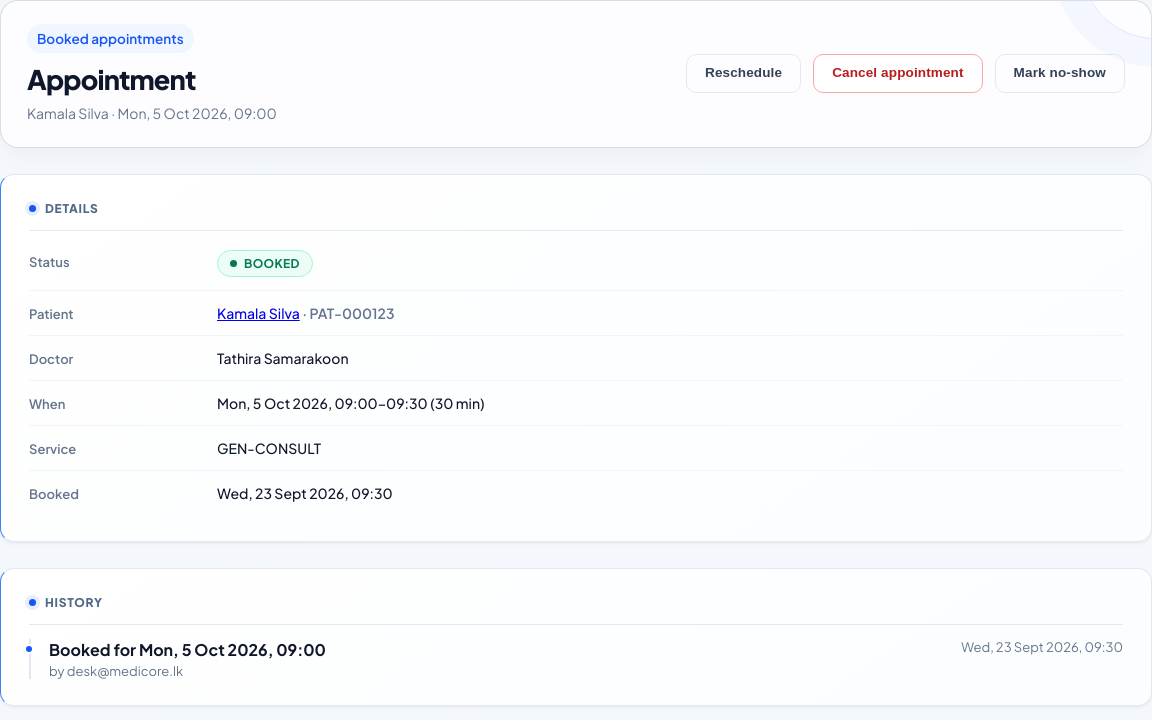
AppointmentDetailPage (SCRUM-36) › keeps the dialog open and reloads the times when the new time was taken meanwhile
The image size is (1152, 720).
Click the button "Reschedule" at {"x": 744, "y": 74}, box left=686, top=54, right=801, bottom=93
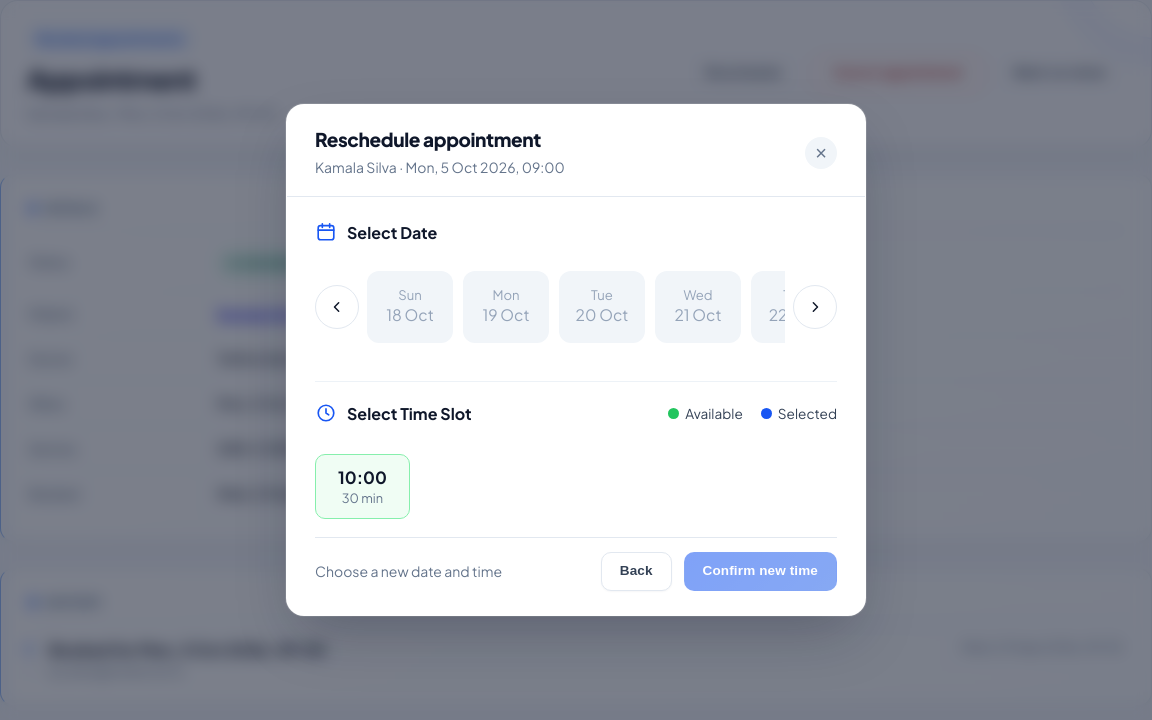
Click the button with test id "slot-option" at {"x": 362, "y": 486}, box left=315, top=454, right=410, bottom=519
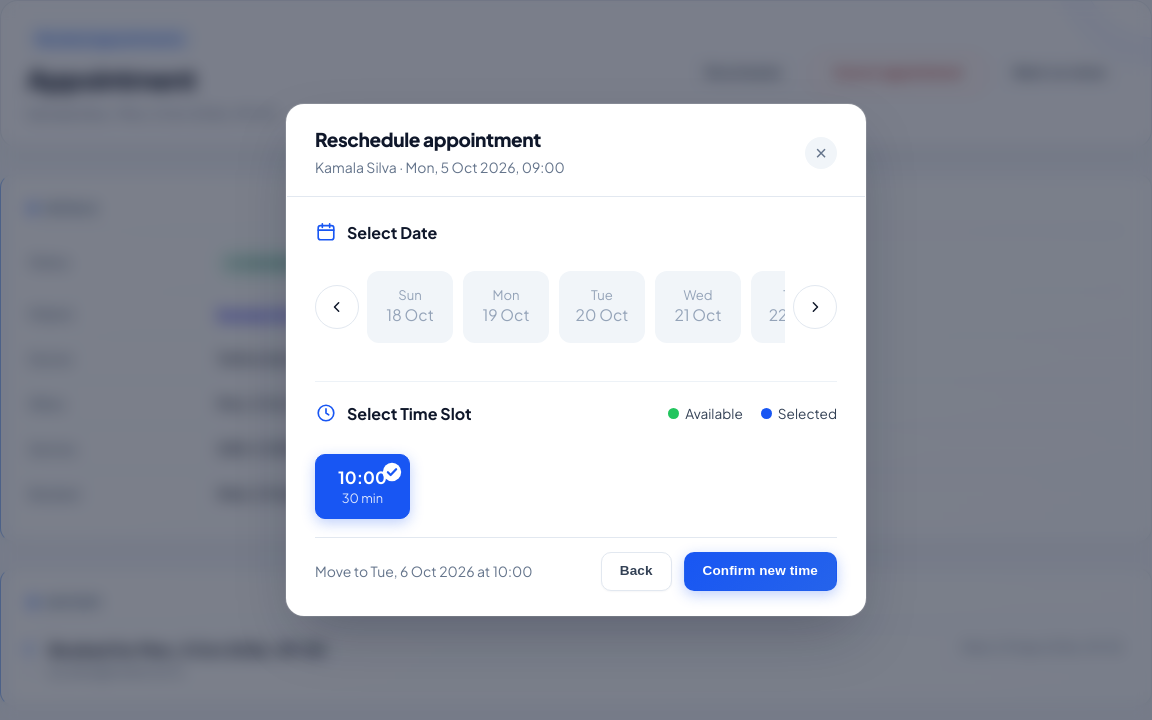
Click the button "Confirm new time" at {"x": 760, "y": 571}, box left=684, top=552, right=837, bottom=591
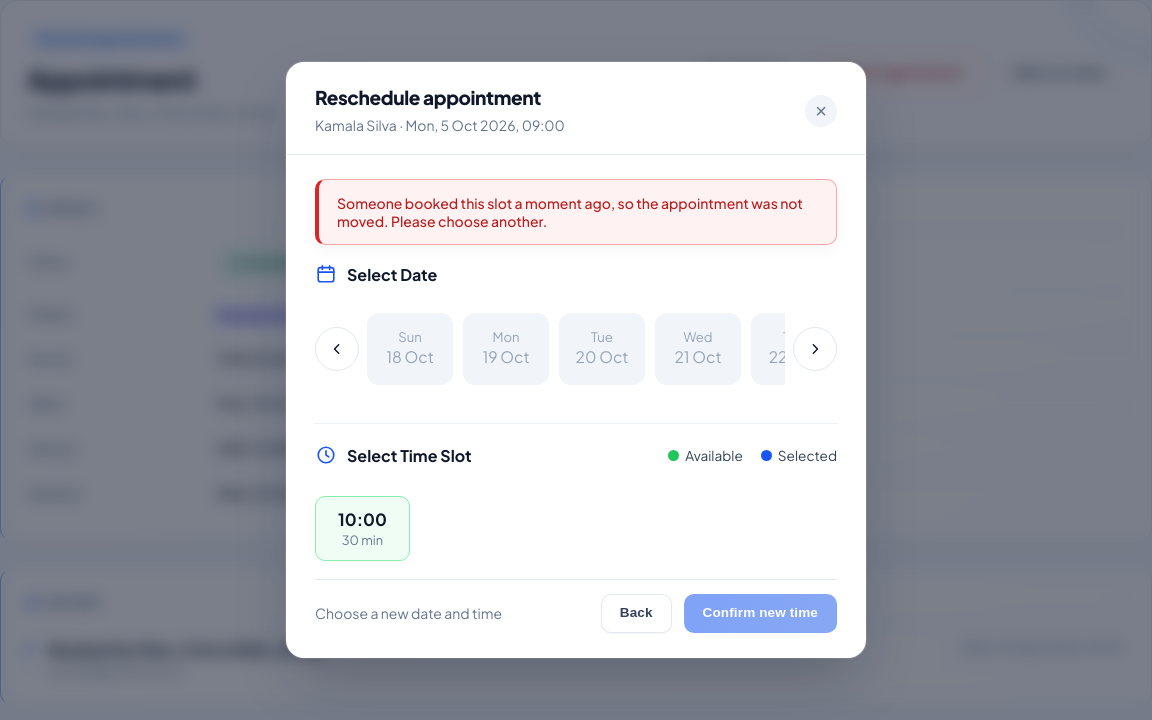
Expected: the text with test id "appointment-when" shows "Mon, 5 Oct 2026, 09:00", left=217, top=394, right=378, bottom=412
Result: the message shows "the appointment was not moved" at left=337, top=194, right=803, bottom=230
